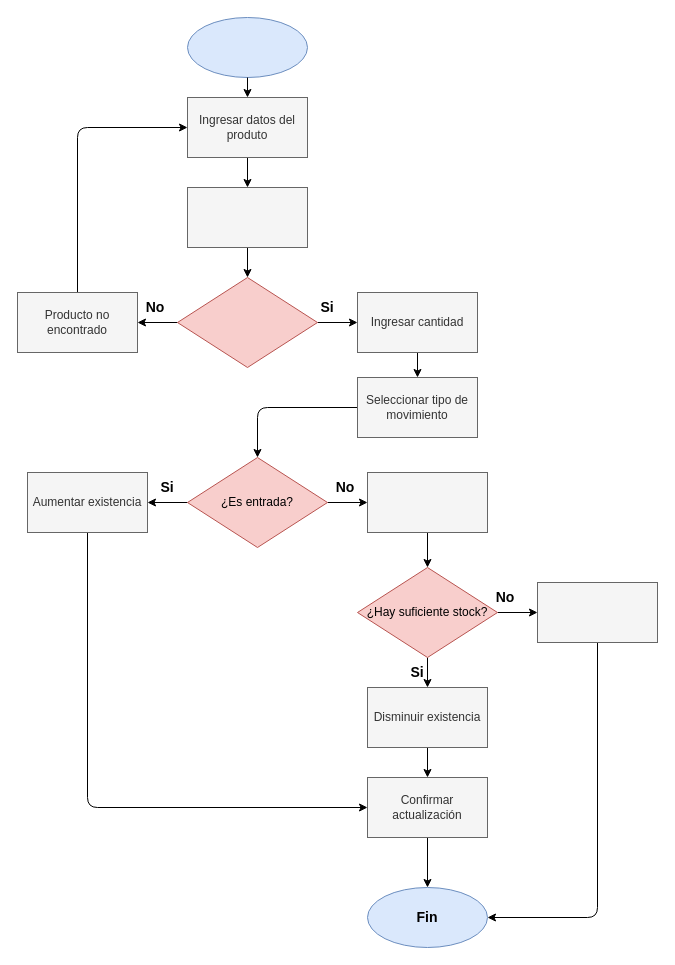
The diagram is 675 pixels wide and 965 high, and some of its shapes have lost their labels. The centre of each missing label's shape, as x and y in pixels:
Buscar producto: (247,217)
Inicio: (247,47)
Stock insuficiente: (597,612)
Verificar existencias: (427,502)
¿Producto existe?: (247,322)
